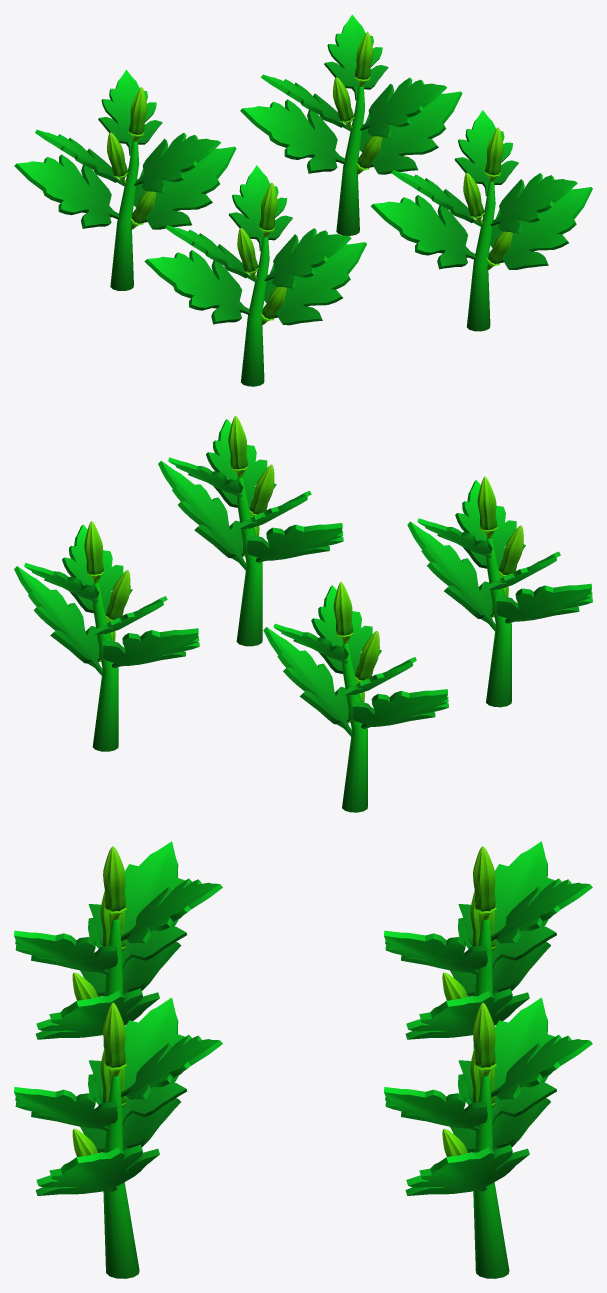
File: Farm_Crop_Okra_Step_03.fbx
3 renders of one model, top to bottom at view 1: azimuth 30°, elevation 25°; view 2: azimuth 150°, elevation 25°; view 3: azimuth 270°, elevation 25°, orthographic. The views are drawn at different scales.
Parts seen in each view (by area): view 1: Farm_Crop_Okra_Step_03; view 2: Farm_Crop_Okra_Step_03; view 3: Farm_Crop_Okra_Step_03.
Part boxes in pixels (left/top/right/bottom): Farm_Crop_Okra_Step_03: left=14, top=14, right=592, bottom=386; Farm_Crop_Okra_Step_03: left=14, top=415, right=592, bottom=812; Farm_Crop_Okra_Step_03: left=14, top=841, right=592, bottom=1278.
Size of the model in its own units: 186 by 83.73 by 157.
